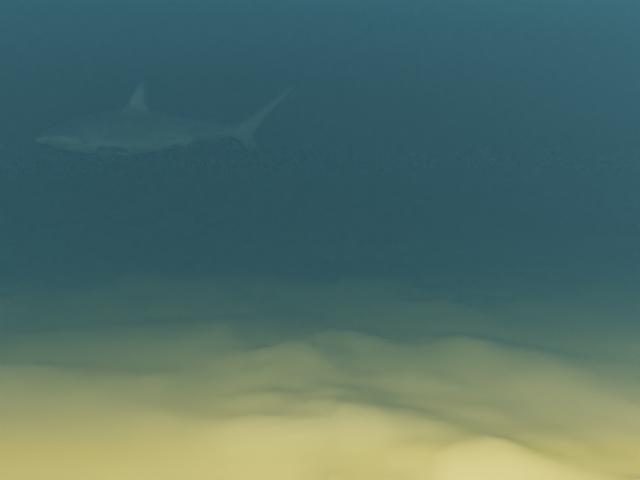Carribean Shark.001: (33, 81, 296, 163)
